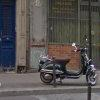Motorcycle: (36, 44, 100, 93)
